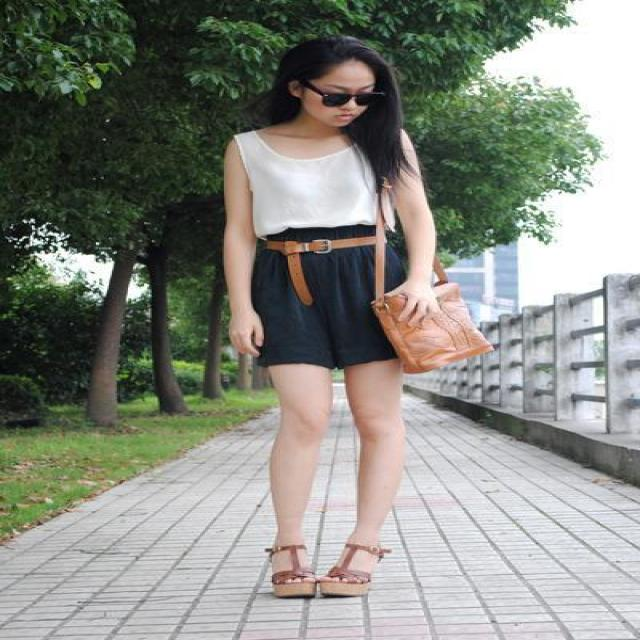bag: (372, 269, 478, 375)
shirt: (234, 131, 392, 233)
shoe: (264, 550, 378, 608)
skirt: (251, 218, 410, 370)
